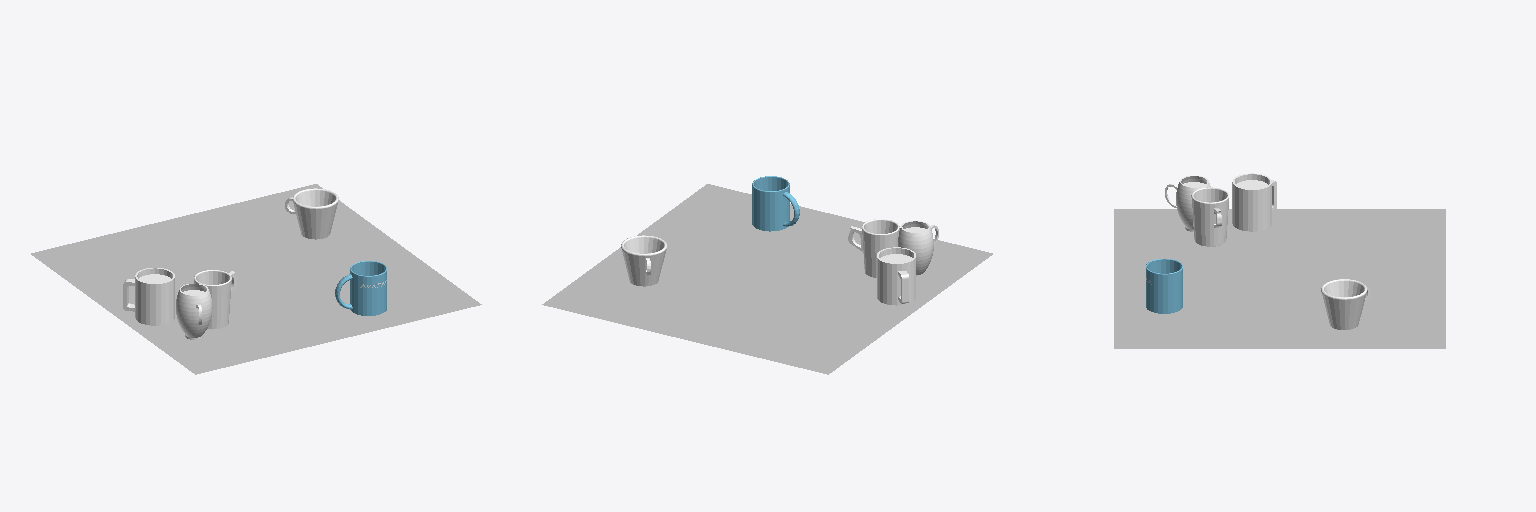
File: create_data2.obj
3 views of the same model, side by side, from view 1: azimuth 30°, elevation 25°; view 2: azimuth 150°, elevation 25°; view 3: azimuth 270°, elevation 25° (orthographic).
Parts seen in each view (by area): view 1: ground_plane_Plane, e16a895052da87277f58c33b328479f4_mesh4_mesh4-geometry.001, cf777e14ca2c7a19b4aad3cc5ce7ee8_mesh5_mesh5-geometry, 8b1dca1414ba88cb91986c63a4d7a99a_mesh3_mesh3-geometry, 1ae1ba5dfb2a085247df[number redacted]d5bbd_mesh1_mesh1-geometry.001, a3cd44bbd3ba5b019a4cbf5d3b79df06_mesh5_mesh5-geometry.002; view 2: ground_plane_Plane, cf777e14ca2c7a19b4aad3cc5ce7ee8_mesh5_mesh5-geometry, e16a895052da87277f58c33b328479f4_mesh4_mesh4-geometry.001, 8b1dca1414ba88cb91986c63a4d7a99a_mesh3_mesh3-geometry, a3cd44bbd3ba5b019a4cbf5d3b79df06_mesh5_mesh5-geometry.002, 1ae1ba5dfb2a085247df[number redacted]d5bbd_mesh1_mesh1-geometry.001; view 3: ground_plane_Plane, e16a895052da87277f58c33b328479f4_mesh4_mesh4-geometry.001, a3cd44bbd3ba5b019a4cbf5d3b79df06_mesh5_mesh5-geometry.002, cf777e14ca2c7a19b4aad3cc5ce7ee8_mesh5_mesh5-geometry, 8b1dca1414ba88cb91986c63a4d7a99a_mesh3_mesh3-geometry, 1ae1ba5dfb2a085247df[number redacted]d5bbd_mesh1_mesh1-geometry.001.
Part boxes in pixels (left/top/right/bottom): ground_plane_Plane: left=31, top=184, right=481, bottom=374; e16a895052da87277f58c33b328479f4_mesh4_mesh4-geometry.001: left=123, top=268, right=174, bottom=325; cf777e14ca2c7a19b4aad3cc5ce7ee8_mesh5_mesh5-geometry: left=335, top=261, right=386, bottom=315; 8b1dca1414ba88cb91986c63a4d7a99a_mesh3_mesh3-geometry: left=285, top=188, right=338, bottom=239; 1ae1ba5dfb2a085247df[number redacted]d5bbd_mesh1_mesh1-geometry.001: left=176, top=284, right=212, bottom=339; a3cd44bbd3ba5b019a4cbf5d3b79df06_mesh5_mesh5-geometry.002: left=194, top=270, right=236, bottom=329; ground_plane_Plane: left=542, top=184, right=992, bottom=374; cf777e14ca2c7a19b4aad3cc5ce7ee8_mesh5_mesh5-geometry: left=752, top=176, right=799, bottom=231; e16a895052da87277f58c33b328479f4_mesh4_mesh4-geometry.001: left=877, top=247, right=915, bottom=305; 8b1dca1414ba88cb91986c63a4d7a99a_mesh3_mesh3-geometry: left=621, top=235, right=666, bottom=286; a3cd44bbd3ba5b019a4cbf5d3b79df06_mesh5_mesh5-geometry.002: left=848, top=219, right=899, bottom=277; 1ae1ba5dfb2a085247df[number redacted]d5bbd_mesh1_mesh1-geometry.001: left=898, top=221, right=938, bottom=276; ground_plane_Plane: left=1114, top=209, right=1445, bottom=348; e16a895052da87277f58c33b328479f4_mesh4_mesh4-geometry.001: left=1232, top=173, right=1276, bottom=231; a3cd44bbd3ba5b019a4cbf5d3b79df06_mesh5_mesh5-geometry.002: left=1191, top=187, right=1228, bottom=246; cf777e14ca2c7a19b4aad3cc5ce7ee8_mesh5_mesh5-geometry: left=1146, top=259, right=1182, bottom=313; 8b1dca1414ba88cb91986c63a4d7a99a_mesh3_mesh3-geometry: left=1321, top=279, right=1370, bottom=329; 1ae1ba5dfb2a085247df[number redacted]d5bbd_mesh1_mesh1-geometry.001: left=1165, top=176, right=1210, bottom=231.
Size of the model in its own units: 10 by 1.55 by 10.